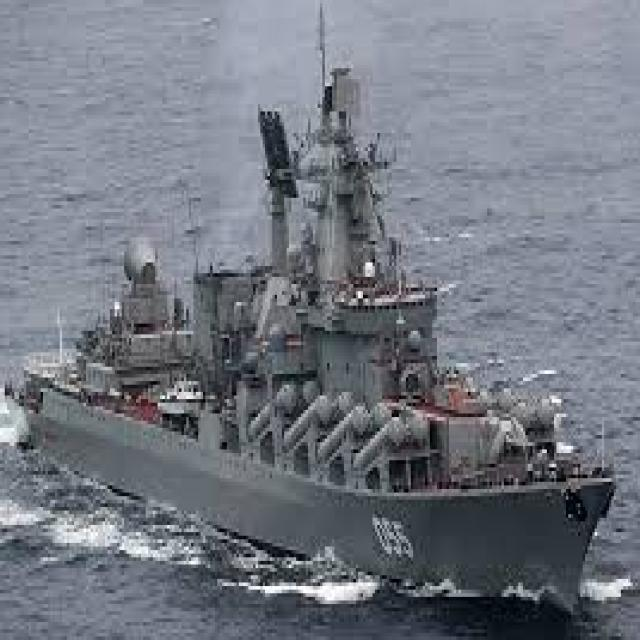navalvessels: (28, 9, 607, 606)
